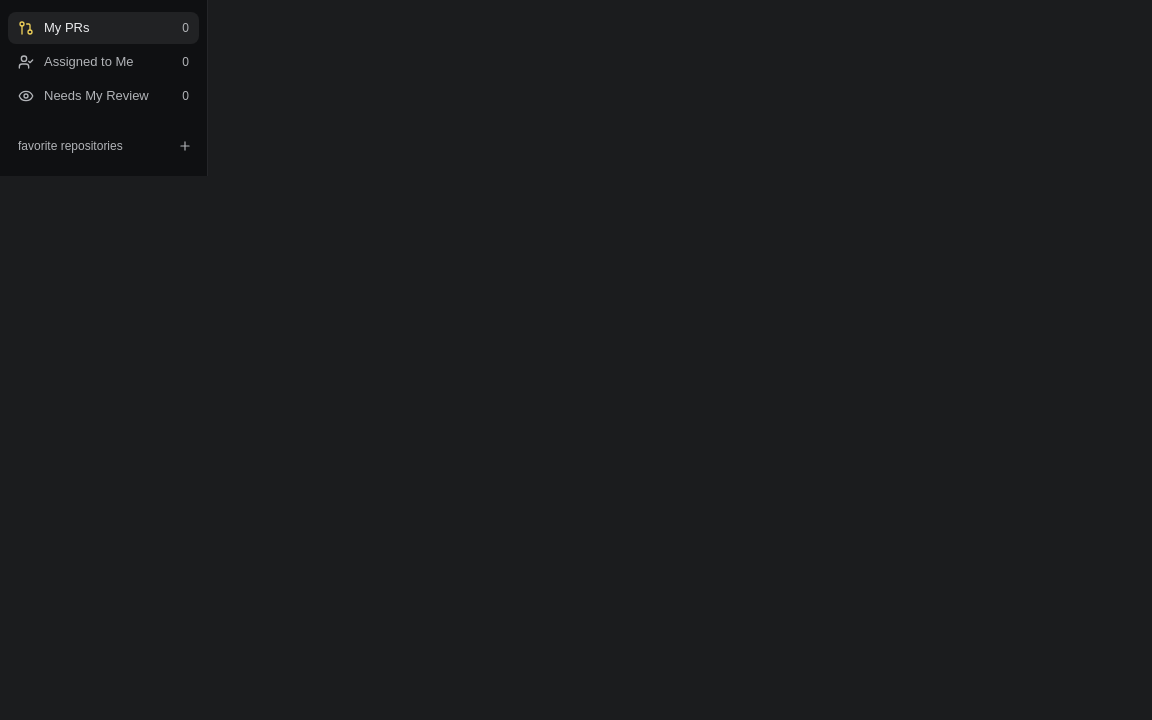
Test case: PrSidebar › lists owned and organization repositories beyond cached PR rows
Click the button named "add favorite repository".
click(185, 146)  # box [171, 132, 199, 160]
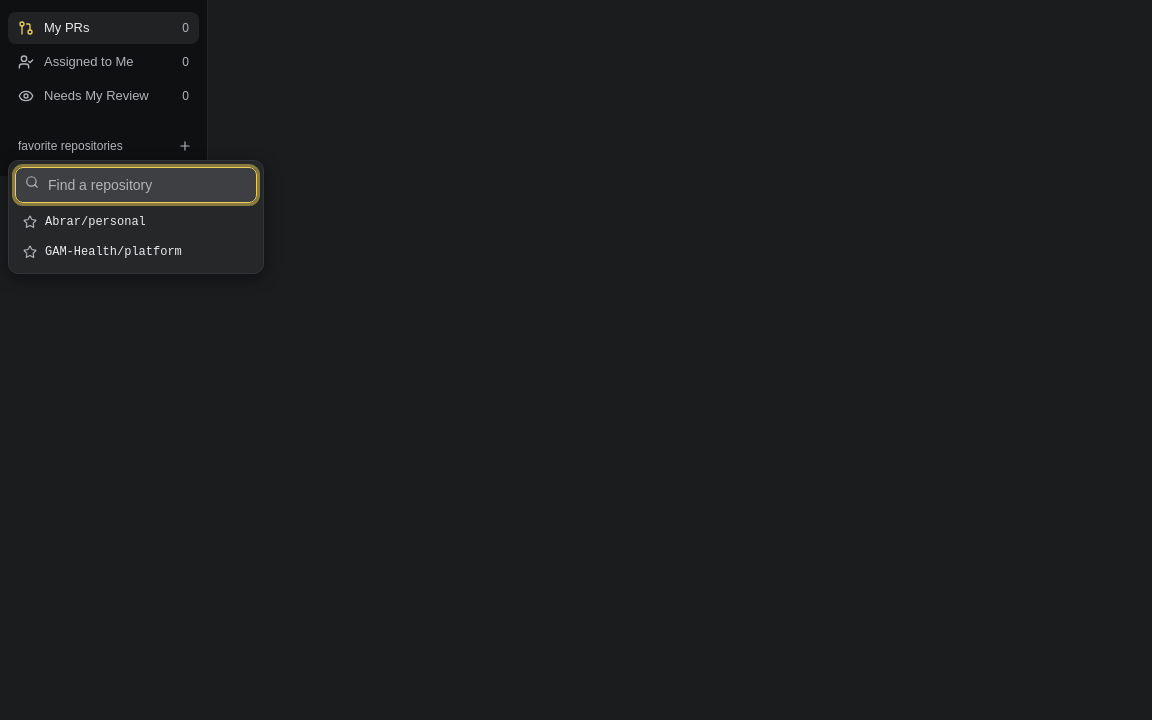
Now the button "Abrar/personal" is shown, box [15, 207, 257, 237]
Now the button "GAM-Health/platform" is shown, box [15, 237, 257, 267]
